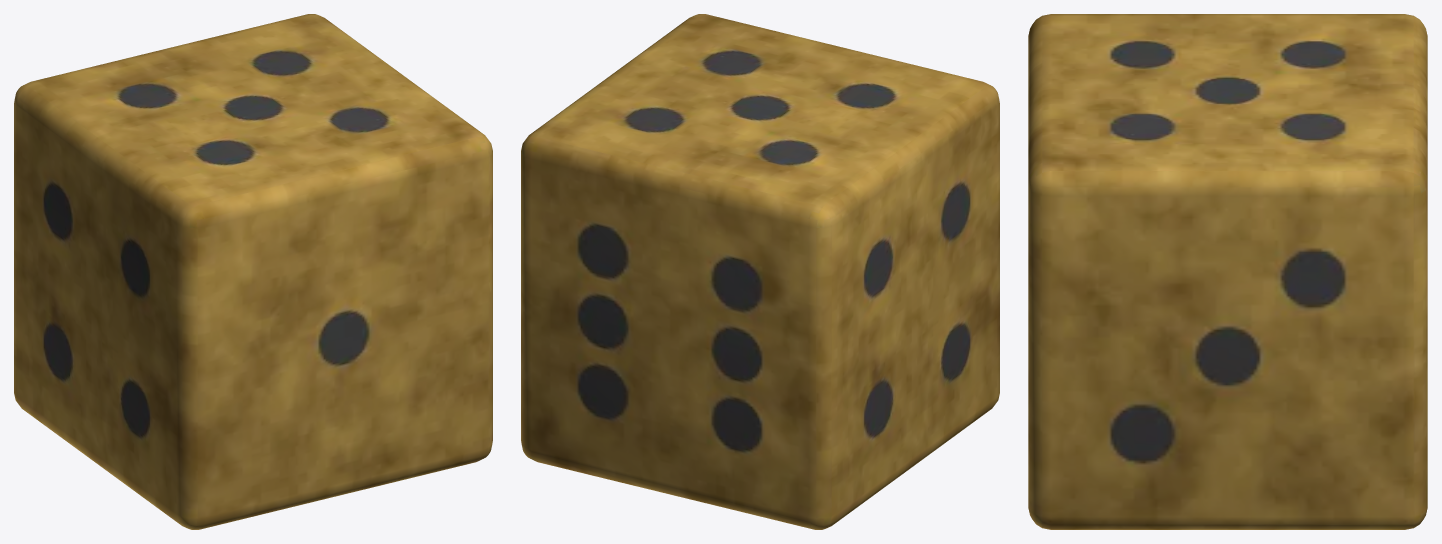
Rendered from imperial-d6.glb.
3 views of the same model, side by side, from view 1: azimuth 30°, elevation 25°; view 2: azimuth 150°, elevation 25°; view 3: azimuth 270°, elevation 25° (orthographic). The views are drawn at different scales.
Parts seen in each view (by area): view 1: imperial_d6; view 2: imperial_d6; view 3: imperial_d6.
Part boxes in pixels (x1,y1,x2,y2): imperial_d6: [14, 14, 492, 529]; imperial_d6: [521, 14, 999, 529]; imperial_d6: [1028, 14, 1427, 529].
Bounding box in the file's own units: 1.4 × 1.4 × 1.4.
1 material, 1 textured.
